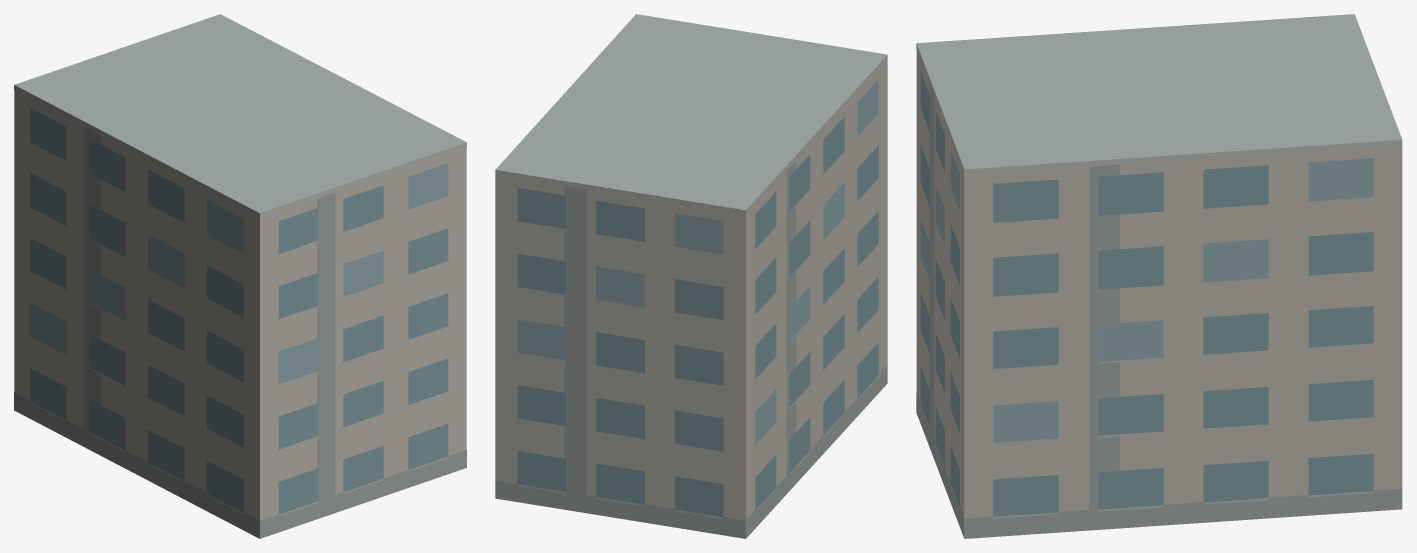
The model's file is survey-upis-32767791.glb.
The picture shows the model from 3 angles, left to right: view 1: azimuth 30°, elevation 25°; view 2: azimuth 150°, elevation 25°; view 3: azimuth 270°, elevation 25°; orthographic projection. The views are drawn at different scales.
Parts seen in each view (by area): view 1: survey-upis-32767791.tmp; view 2: survey-upis-32767791.tmp; view 3: survey-upis-32767791.tmp.
Boxes of the visible parts, x1,y1,x2,y2 form: survey-upis-32767791.tmp: (14,14,466,538); survey-upis-32767791.tmp: (495,14,887,538); survey-upis-32767791.tmp: (916,14,1402,538).
Size of the model in its own units: 14.26 by 15.8 by 18.85.
